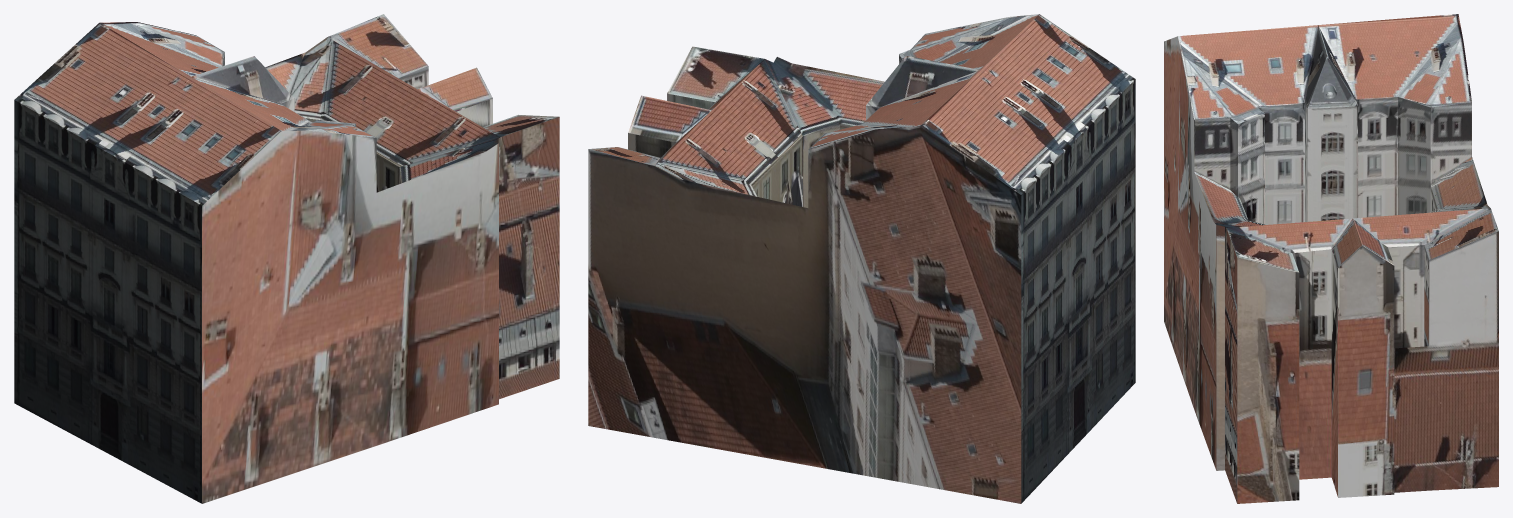
3 renders of one model, left to right at view 1: azimuth 30°, elevation 25°; view 2: azimuth 150°, elevation 25°; view 3: azimuth 270°, elevation 25°, orthographic. The views are drawn at different scales.
Visible parts, largest first — view 1: Z_UP; view 2: Z_UP; view 3: Z_UP.
Part boxes in pixels (bbox=[...]): Z_UP: bbox=[14, 14, 559, 503]; Z_UP: bbox=[588, 14, 1135, 503]; Z_UP: bbox=[1164, 14, 1498, 503].
Size of the model in its own units: 38.91 by 30.28 by 27.61.
Materials: 2 (1 with a texture image).
